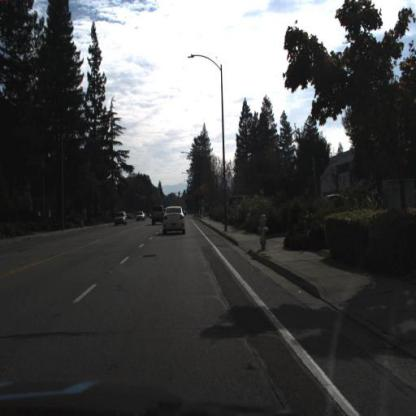car: (162, 206, 185, 236), (152, 206, 166, 229), (115, 210, 127, 225), (137, 210, 147, 222)
